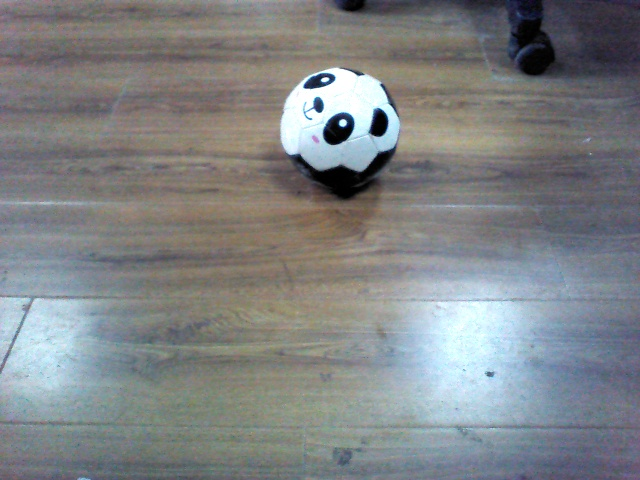ball: (261, 257, 403, 402)
